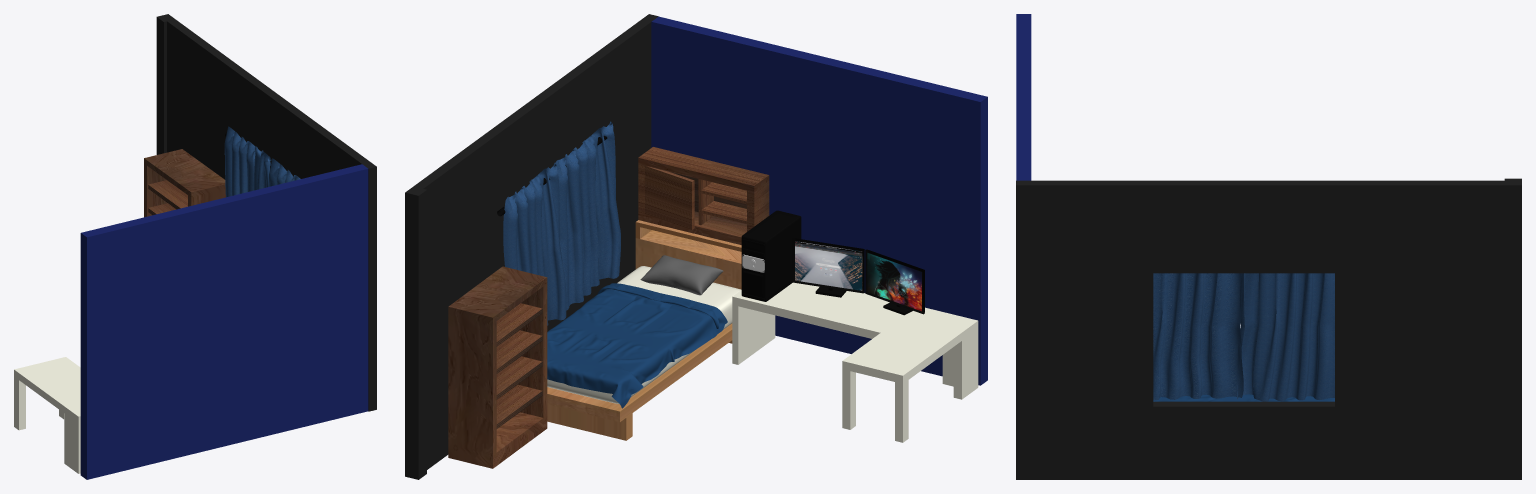
The model's file is room.glb.
3 renders of one model, left to right at view 1: azimuth 30°, elevation 25°; view 2: azimuth 150°, elevation 25°; view 3: azimuth 270°, elevation 25°, orthographic. The views are drawn at different scales.
Parts seen in each view (by area): view 1: Tembok_2_138, Tembok_1_129, table, Lemari_5, Gorden_2_135, Gorden_1_134; view 2: Tembok_2_138, Tembok_1_129, Lemari_5, table, Selimut_4, Lemari_Kecil_6, Gorden_1_134, Kasur_1, Gorden_2_135, Casing_Cpu_61, Monitor_1, Monitor_2 (+2 smaller); view 3: Tembok_1_129, Gorden_2_135, Gorden_1_134, Tembok_2_138, Selimut_4.
Part boxes in pixels (x1=…): Tembok_2_138: x1=80, y1=164, x2=368, y2=479; Tembok_1_129: x1=156, y1=14, x2=376, y2=411; table: x1=14, y1=357, x2=80, y2=473; Lemari_5: x1=144, y1=149, x2=225, y2=217; Gorden_2_135: x1=224, y1=126, x2=271, y2=197; Gorden_1_134: x1=269, y1=158, x2=300, y2=186; Tembok_2_138: x1=651, y1=16, x2=987, y2=385; Tembok_1_129: x1=405, y1=14, x2=658, y2=479; Lemari_5: x1=448, y1=266, x2=547, y2=468; table: x1=732, y1=282, x2=978, y2=442; Selimut_4: x1=547, y1=283, x2=727, y2=408; Lemari_Kecil_6: x1=638, y1=147, x2=769, y2=244; Gorden_1_134: x1=555, y1=121, x2=620, y2=310; Kasur_1: x1=547, y1=220, x2=741, y2=440; Gorden_2_135: x1=503, y1=163, x2=566, y2=325; Casing_Cpu_61: x1=741, y1=210, x2=801, y2=301; Monitor_1: x1=792, y1=238, x2=864, y2=297; Monitor_2: x1=865, y1=249, x2=924, y2=315; Tembok_1_129: x1=1016, y1=178, x2=1521, y2=479; Gorden_2_135: x1=1237, y1=273, x2=1334, y2=401; Gorden_1_134: x1=1153, y1=273, x2=1243, y2=400; Tembok_2_138: x1=1016, y1=14, x2=1031, y2=180; Selimut_4: x1=1153, y1=394, x2=1334, y2=401.
Bounding box in the file's own units: 28.83 × 23.08 × 35.93.
Materials: 11 (5 with a texture image).
